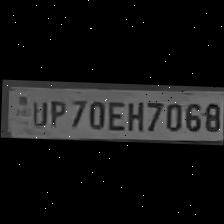0: (83, 97, 105, 130), (162, 99, 182, 133)
6: (181, 99, 201, 133)
7: (64, 96, 86, 130), (142, 97, 162, 132)
8: (200, 100, 222, 134)
E: (104, 96, 124, 132)
H: (124, 98, 144, 132)
P: (44, 97, 64, 129)
U: (26, 98, 46, 128)
